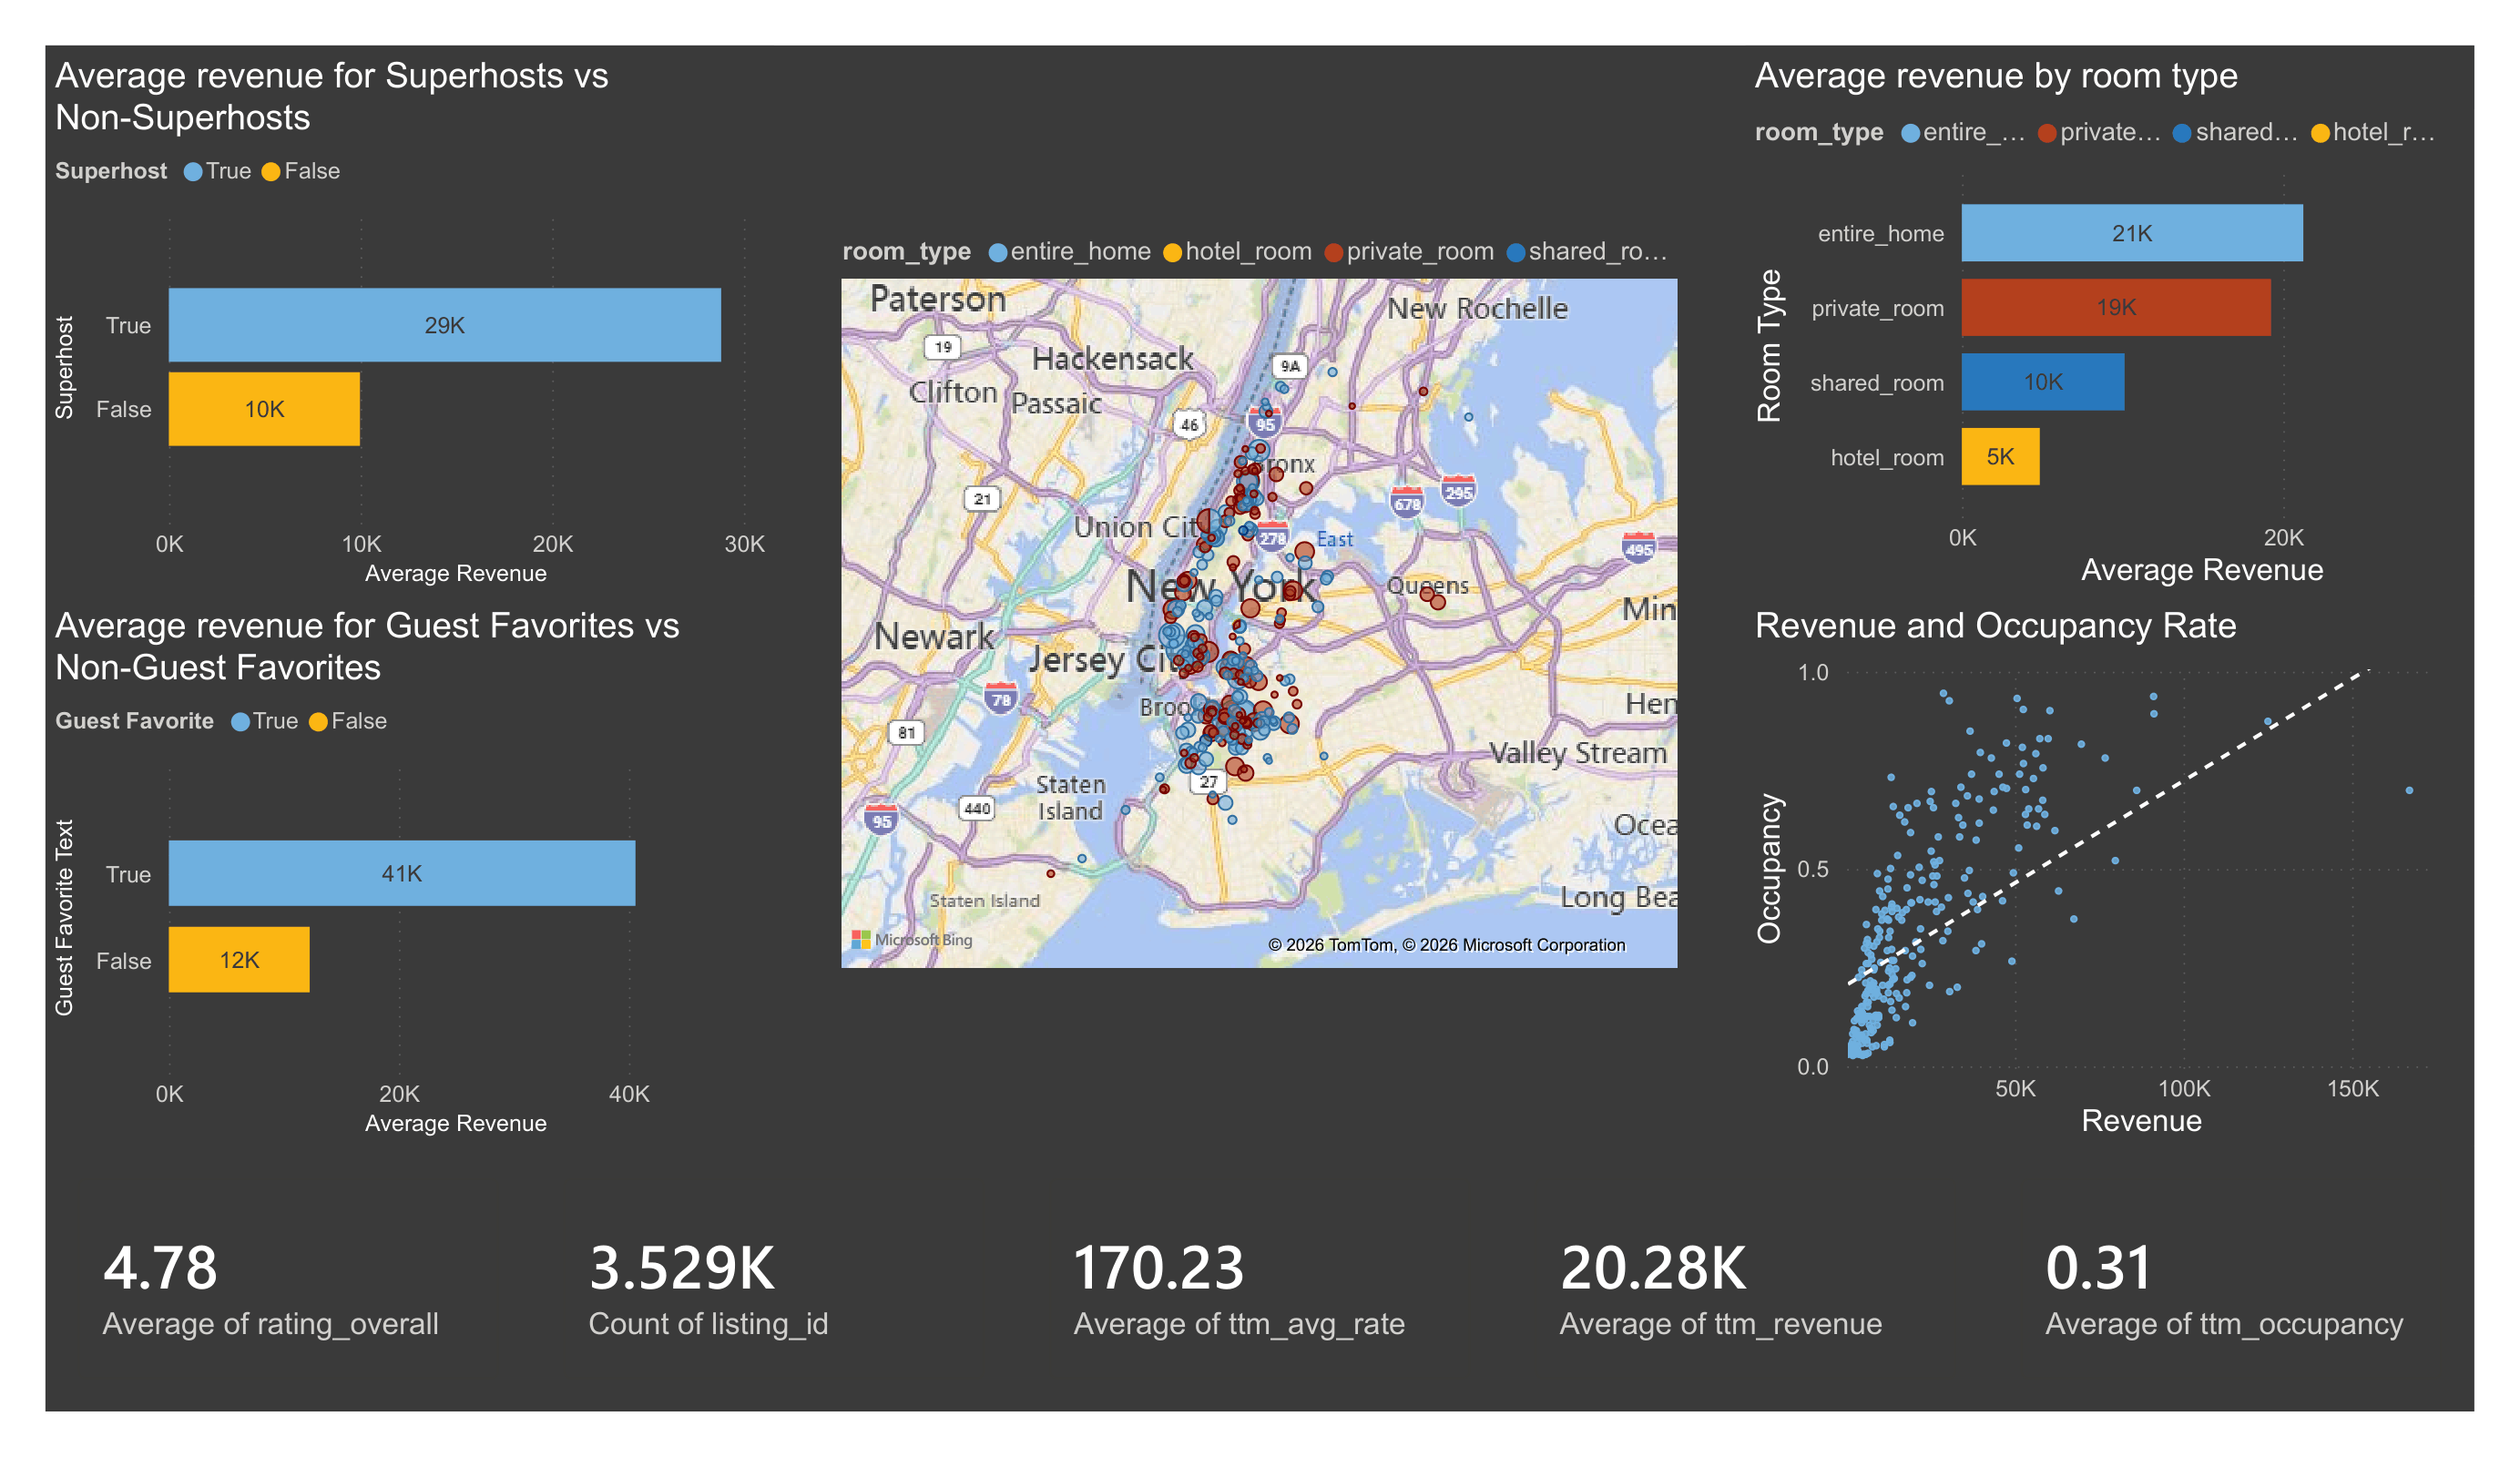

Layout of this report page (visuals, bound fields, positions):
{"tool":"powerbi","page":{"name":"Summary","canvas":[1280,720],"ordinal":0},"visuals":[{"type":"cardVisual","fields":{"Data":["Avg(listingdata1.ttm_revenue)"]},"box":[768,580,256,140],"z":0},{"type":"cardVisual","fields":{"Data":["Avg(listingdata1.ttm_occupancy)"]},"box":[1024,580,256,140],"z":1000},{"type":"cardVisual","fields":{"Data":["Avg(listingdata1.ttm_avg_rate)"]},"box":[512,580,256,140],"z":2000},{"type":"cardVisual","fields":{"Data":["Avg(listingdata1.rating_overall)"]},"box":[0,580,256,140],"z":3000},{"type":"cardVisual","fields":{"Data":["CountNonNull(pastcalendarrates2.listing_id)"]},"box":[256,580,256,140],"z":4000},{"type":"barChart","title":"Average revenue for Superhosts vs Non-Superhosts","fields":{"Y":["Avg(listingdata1.ttm_revenue)"],"Category":["listingdata1.Superhost Text"],"Series":["listingdata1.Superhost Text"]},"box":[0,0,384,290],"z":5000},{"type":"barChart","title":"Average revenue for Guest Favorites vs Non-Guest Favorites","fields":{"Y":["Avg(listingdata1.ttm_revenue)"],"Category":["listingdata1.Guest Favorite Text"],"Series":["listingdata1.Guest Favorite Text"]},"box":[0,290,384,290],"z":6000},{"type":"barChart","title":"Average revenue by room type","fields":{"Category":["listingdata1.room_type"],"Y":["Avg(listingdata1.ttm_revenue)"],"Series":["listingdata1.room_type"]},"box":[896,0,384,290],"z":7000},{"type":"scatterChart","title":"Revenue and Occupancy Rate","fields":{"X":["listingdata1.ttm_revenue"],"Y":["listingdata1.ttm_occupancy"]},"box":[896,290,384,290],"z":8000},{"type":"map","fields":{"Y":["listingdata1.latitude"],"X":["listingdata1.longitude"],"Size":["Avg(listingdata1.ttm_revenue)"],"Series":["listingdata1.room_type"]},"box":[415,89,450,402],"z":9000}]}

Visuals, with their boxes on the page's 1280x720 design canvas (x1, y1, x2, y2). These are canvas units, not pixel positions in the 2520x1457 screenshot, which may show the page scaled, cropped or inside an application window:
cardVisual - Avg(listingdata1.ttm_revenue): box(768, 580, 1024, 720)
cardVisual - Avg(listingdata1.ttm_occupancy): box(1024, 580, 1280, 720)
cardVisual - Avg(listingdata1.ttm_avg_rate): box(512, 580, 768, 720)
cardVisual - Avg(listingdata1.rating_overall): box(0, 580, 256, 720)
cardVisual - CountNonNull(pastcalendarrates2.listing_id): box(256, 580, 512, 720)
"Average revenue for Superhosts vs Non-Superhosts" barChart: box(0, 0, 384, 290)
"Average revenue for Guest Favorites vs Non-Guest Favorites" barChart: box(0, 290, 384, 580)
"Average revenue by room type" barChart: box(896, 0, 1280, 290)
"Revenue and Occupancy Rate" scatterChart: box(896, 290, 1280, 580)
map - listingdata1.latitude x listingdata1.longitude: box(415, 89, 865, 491)
